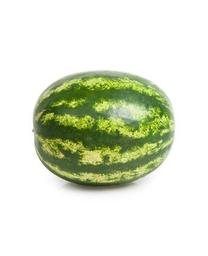watermelon: (31, 70, 179, 185)
